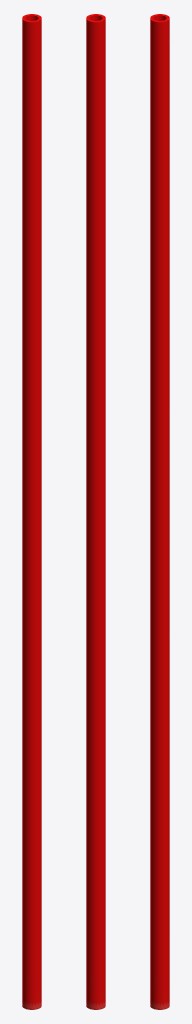
File: reshuiguan.gltf
3 views of the same model, side by side, from view 1: azimuth 30°, elevation 25°; view 2: azimuth 150°, elevation 25°; view 3: azimuth 330°, elevation 25° (orthographic).
Parts seen in each view (by area): view 1: Tube007; view 2: Tube007; view 3: Tube007.
Boxes of the visible parts, left/top/right/bottom form: Tube007: left=22, top=14, right=41, bottom=1009; Tube007: left=86, top=14, right=105, bottom=1009; Tube007: left=150, top=14, right=169, bottom=1009.
Bounding box in the file's own units: 6 × 330 × 5.94.
1 material, 1 textured.
